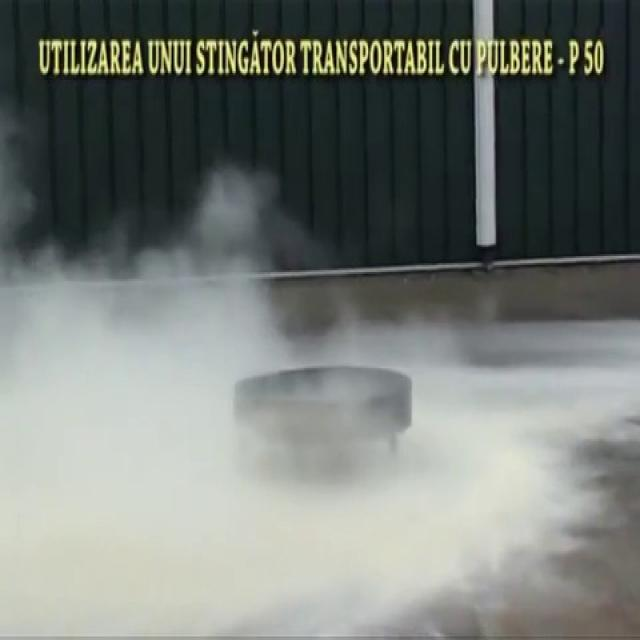Smoke: (0, 31, 351, 513)
